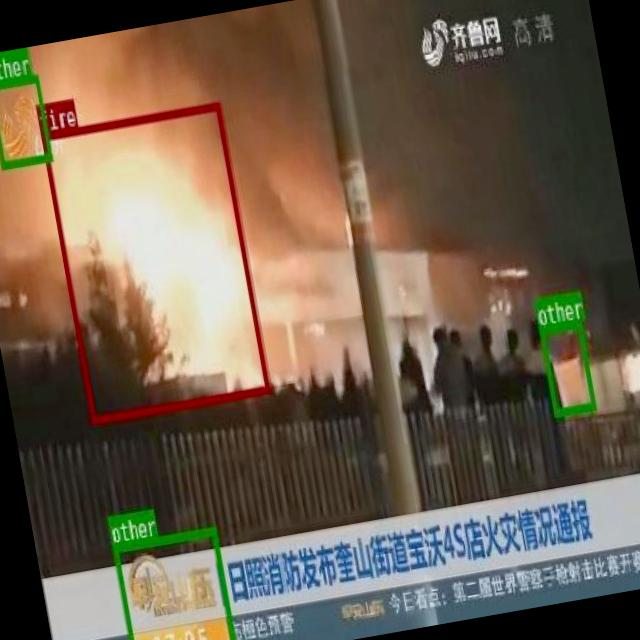fire: (39, 100, 269, 422)
